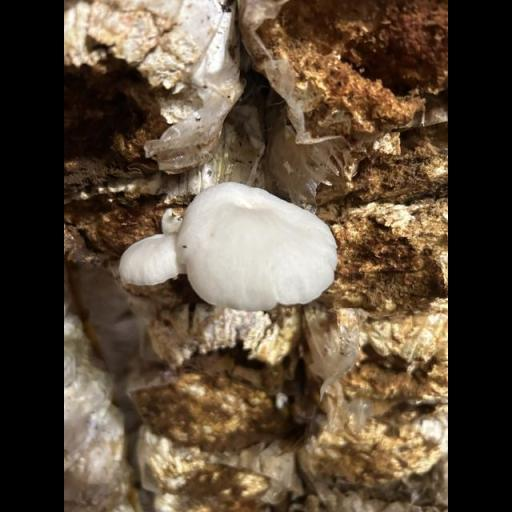White Oyster Mushroom: (120, 183, 338, 311)
